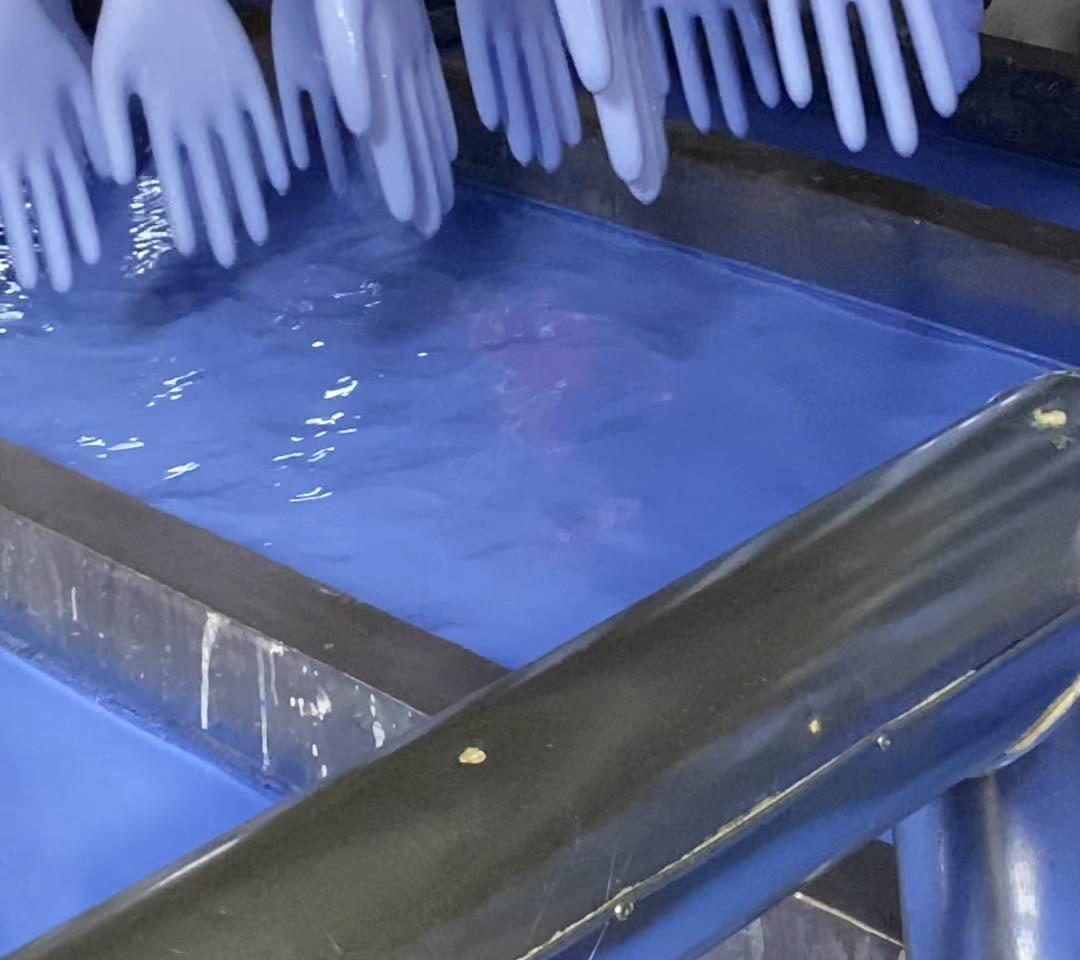glove: (87, 1, 294, 267), (306, 1, 472, 242), (1, 1, 130, 294), (770, 1, 964, 163), (557, 1, 681, 209), (452, 1, 591, 177), (646, 1, 783, 150)
